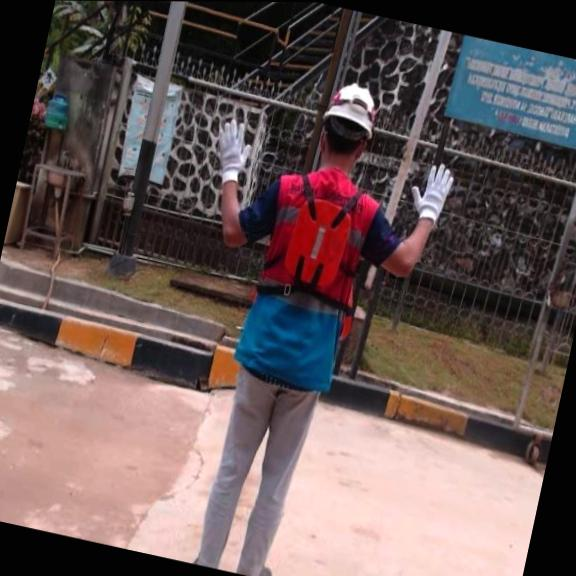safety_vest: (278, 186, 356, 294)
